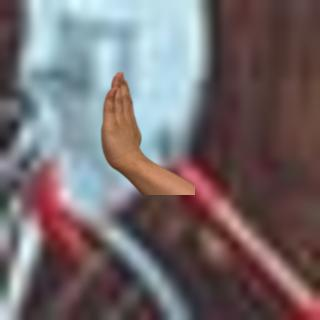RIGHT: (96, 67, 146, 175)
